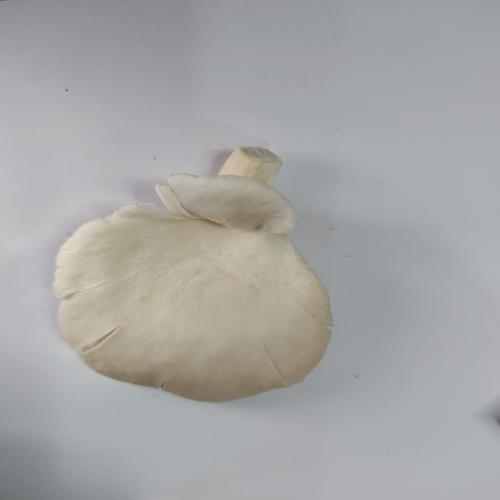Oyster Mushroom: (52, 145, 335, 403)
